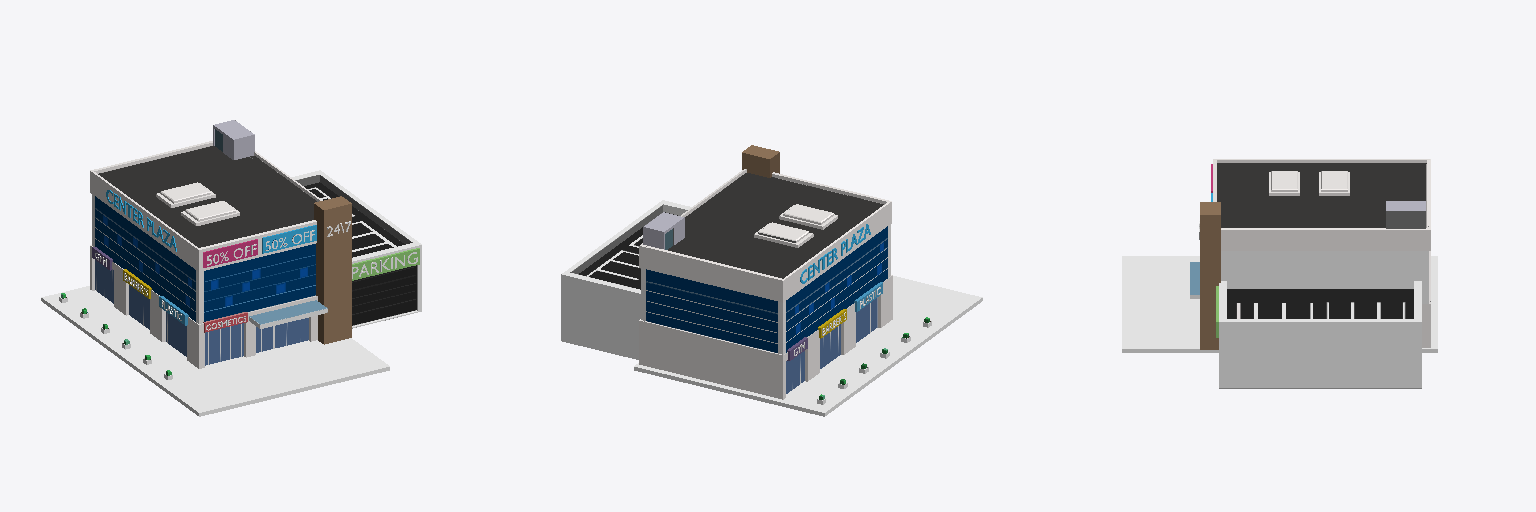
3 views of the same model, side by side, from view 1: azimuth 30°, elevation 25°; view 2: azimuth 150°, elevation 25°; view 3: azimuth 270°, elevation 25° (orthographic).
Parts seen in each view (by area): view 1: Cube, Plane, Cube.001_Cube.002, Cube.008_Cube.009, Cube.004_Cube.005, Cube.012, Cube.007_Cube.008, Cube.010_Cube.011, Cube.011, Plaza_text; view 2: Cube, Plane, Cube.001_Cube.002, Cube.012, Cube.008_Cube.009, Cube.010_Cube.011, Cube.011, Cube.004_Cube.005, Plaza_text; view 3: Cube, Cube.001_Cube.002, Plane, Cube.008_Cube.009, Cube.012, Cube.011, Cube.010_Cube.011.
Boxes of the visible parts, box(x1,y1,x2,y2) form: Cube: box(90, 141, 322, 368); Plane: box(41, 286, 389, 416); Cube.001_Cube.002: box(291, 170, 421, 328); Cube.008_Cube.009: box(314, 196, 351, 344); Cube.004_Cube.005: box(92, 225, 419, 332); Cube.012: box(213, 120, 254, 159); Cube.007_Cube.008: box(249, 300, 327, 328); Cube.010_Cube.011: box(156, 182, 215, 207); Cube.011: box(181, 201, 239, 225); Plaza_text: box(106, 190, 176, 251); Cube: box(639, 169, 892, 399); Plane: box(634, 276, 982, 416); Cube.001_Cube.002: box(561, 200, 691, 359); Cube.012: box(643, 212, 684, 249); Cube.008_Cube.009: box(742, 145, 779, 177); Cube.010_Cube.011: box(754, 222, 813, 247); Cube.011: box(779, 204, 837, 229); Cube.004_Cube.005: box(787, 282, 882, 360); Plaza_text: box(800, 224, 870, 283); Cube: box(1213, 159, 1430, 347); Cube.001_Cube.002: box(1219, 281, 1421, 388); Plane: box(1122, 256, 1437, 352); Cube.008_Cube.009: box(1200, 202, 1220, 349); Cube.012: box(1386, 201, 1425, 228); Cube.011: box(1269, 171, 1299, 195); Cube.010_Cube.011: box(1319, 171, 1349, 195).
Bounding box in the file's own units: 15.48 × 7.64 × 15.61.
1 materials, 1 textured.